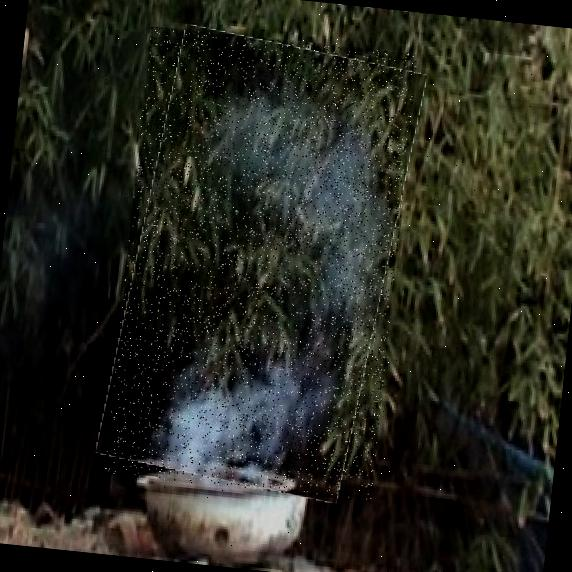smoke: (104, 27, 418, 503)
